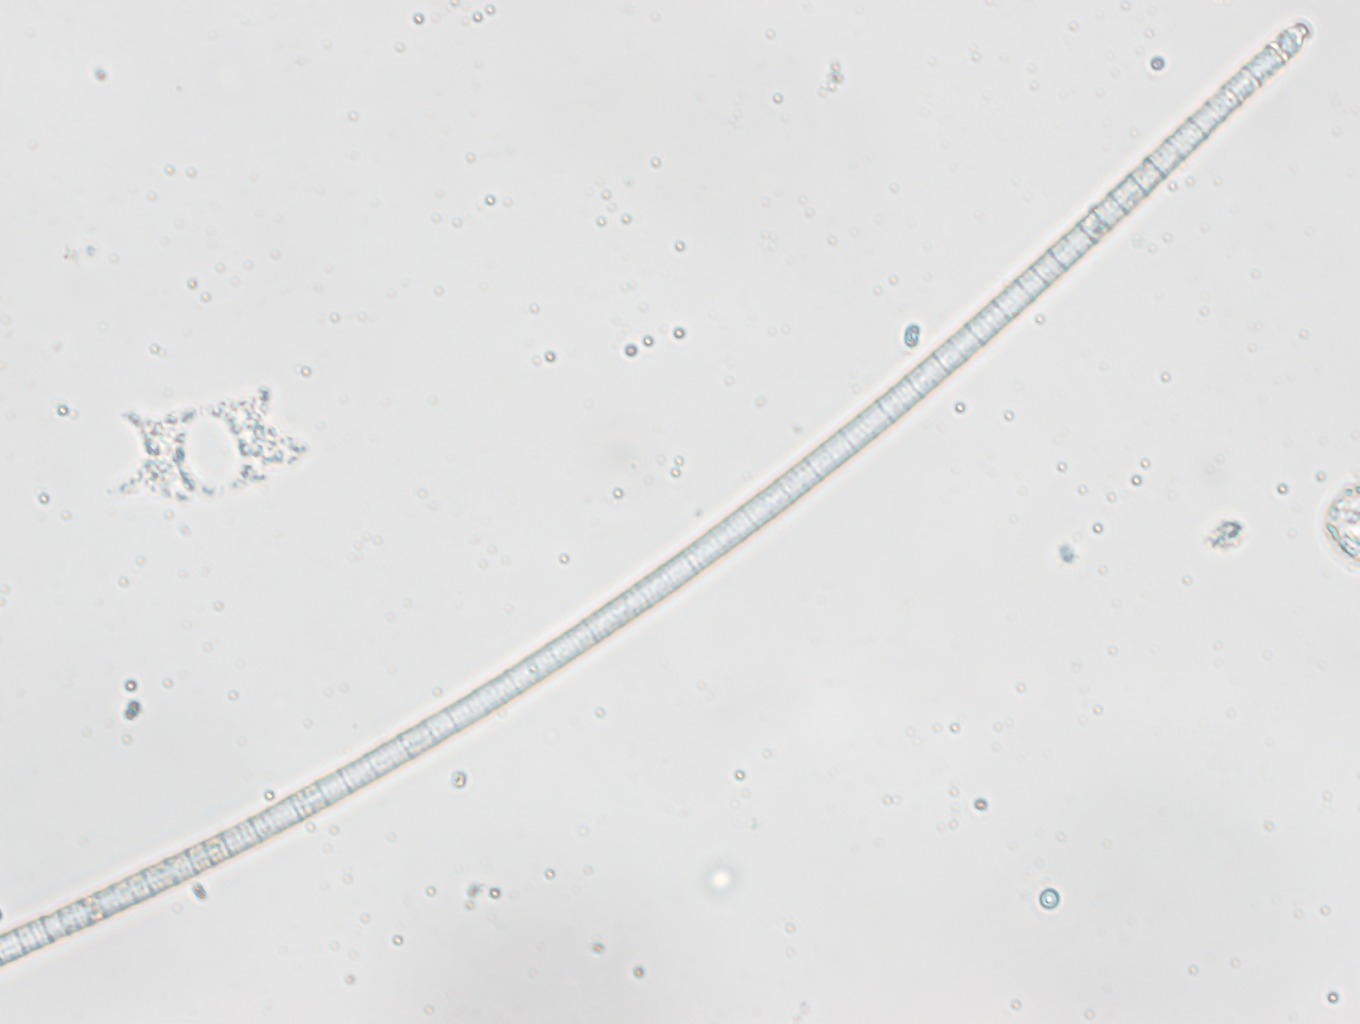eucampia: (105, 387, 309, 508)
